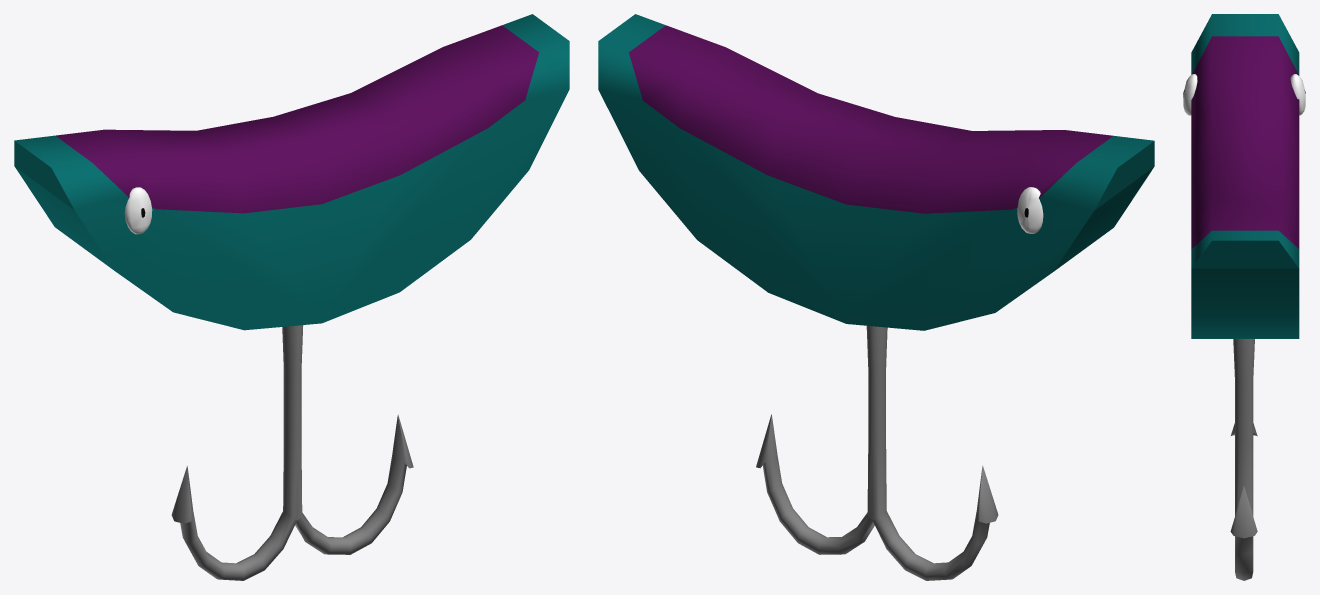
Rendered from Hook2.obj.
3 renders of one model, left to right at view 1: azimuth 30°, elevation 25°; view 2: azimuth 150°, elevation 25°; view 3: azimuth 270°, elevation 25°, orthographic. The views are drawn at different scales.
Visible parts, largest first — view 1: pCylinder3 FishHook, FishHook pCylinder1; view 2: pCylinder3 FishHook, FishHook pCylinder1; view 3: pCylinder3 FishHook, FishHook pCylinder1.
Boxes of the visible parts, <box> form: pCylinder3 FishHook: <box>14,14,569,330</box>; FishHook pCylinder1: <box>171,325,413,580</box>; pCylinder3 FishHook: <box>598,14,1154,330</box>; FishHook pCylinder1: <box>756,326,998,580</box>; pCylinder3 FishHook: <box>1183,14,1305,338</box>; FishHook pCylinder1: <box>1230,339,1257,580</box>.
Size of the model in its own units: 16.52 by 14.5 by 3.78.
